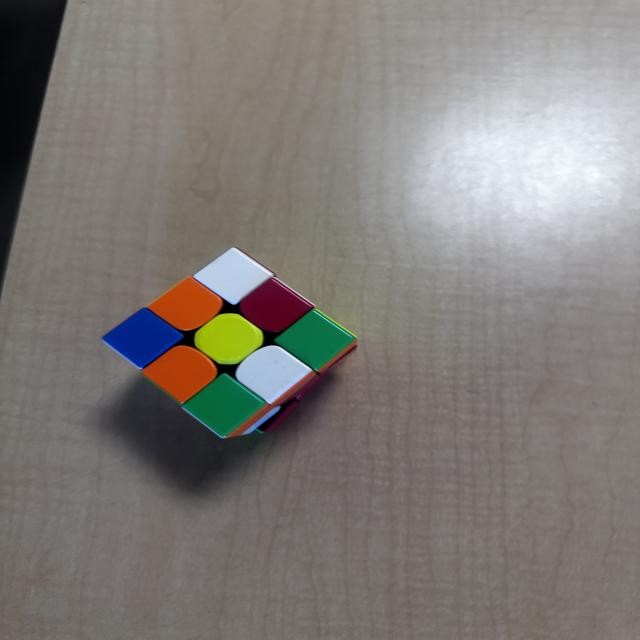sticker: (183, 372, 273, 438), (275, 309, 358, 375), (192, 246, 277, 307), (101, 308, 183, 370), (234, 345, 314, 406), (141, 344, 218, 404), (148, 276, 225, 332), (240, 278, 314, 334), (194, 313, 264, 365), (232, 249, 275, 273)
